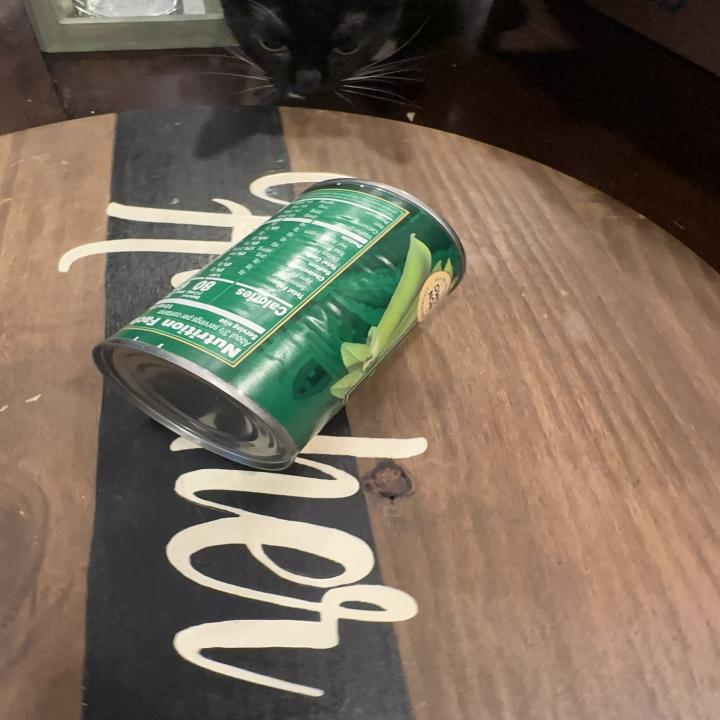Canned-Peas: (86, 174, 471, 478)
